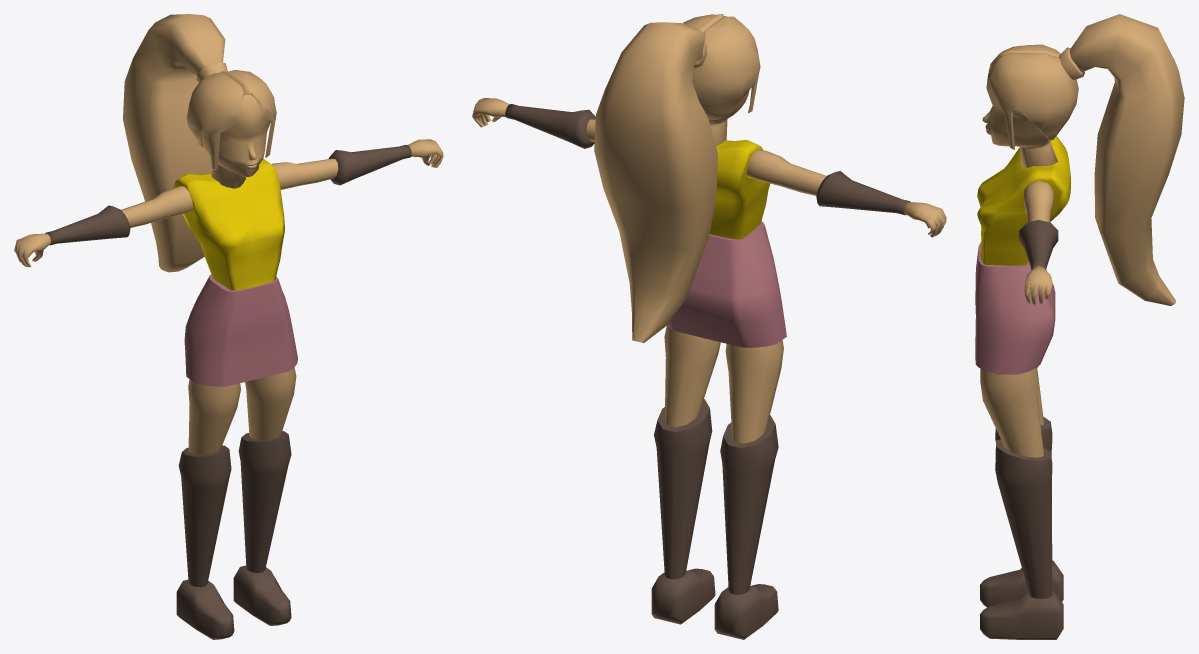
Rendered from character.fbx.
3 views of the same model, side by side, from view 1: azimuth 30°, elevation 25°; view 2: azimuth 150°, elevation 25°; view 3: azimuth 270°, elevation 25° (orthographic). The views are drawn at different scales.
Parts seen in each view (by area): view 1: char_head, pCylinder8, char_chest, pCylinder14, pCylinder13, pCylinder11, pCylinder10, pCylinder16, pCylinder17, pCylinder5, pCylinder4, pCylinder3 (+3 smaller); view 2: char_head, pCylinder8, pCylinder14, pCylinder13, pCylinder11, char_chest, pCylinder10, pCylinder17, pCylinder16, pCylinder5, pCylinder4, pCylinder3 (+2 smaller); view 3: char_head, pCylinder8, pCylinder14, char_chest, pCylinder10, pCylinder16, pCylinder17, pCylinder4, char_left_arm, pCylinder6, pCylinder13.
Part boxes in pixels (x1=…): char_head: x1=123, y1=14, x2=276, y2=272; pCylinder8: x1=184, y1=274, x2=297, y2=386; char_chest: x1=173, y1=158, x2=284, y2=290; pCylinder14: x1=238, y1=431, x2=291, y2=572; pCylinder13: x1=178, y1=445, x2=231, y2=587; pCylinder11: x1=188, y1=379, x2=240, y2=454; pCylinder10: x1=245, y1=367, x2=296, y2=439; pCylinder16: x1=233, y1=565, x2=291, y2=625; pCylinder17: x1=176, y1=579, x2=234, y2=639; pCylinder5: x1=45, y1=205, x2=130, y2=245; pCylinder4: x1=328, y1=145, x2=411, y2=185; pCylinder3: x1=121, y1=186, x2=193, y2=227; char_head: x1=594, y1=14, x2=760, y2=342; pCylinder8: x1=667, y1=221, x2=786, y2=347; pCylinder14: x1=654, y1=399, x2=712, y2=579; pCylinder13: x1=720, y1=415, x2=778, y2=594; pCylinder11: x1=725, y1=340, x2=783, y2=443; char_chest: x1=710, y1=140, x2=769, y2=239; pCylinder10: x1=664, y1=326, x2=720, y2=427; pCylinder17: x1=714, y1=584, x2=778, y2=639; pCylinder16: x1=651, y1=568, x2=715, y2=624; pCylinder5: x1=816, y1=171, x2=910, y2=215; pCylinder4: x1=505, y1=104, x2=595, y2=148; pCylinder3: x1=746, y1=149, x2=826, y2=195; char_head: x1=982, y1=14, x2=1184, y2=305; pCylinder8: x1=975, y1=242, x2=1055, y2=374; pCylinder14: x1=995, y1=439, x2=1052, y2=598; char_chest: x1=977, y1=136, x2=1070, y2=265; pCylinder10: x1=980, y1=368, x2=1043, y2=457; pCylinder16: x1=980, y1=590, x2=1063, y2=639; pCylinder17: x1=980, y1=560, x2=1063, y2=607; pCylinder4: x1=1019, y1=220, x2=1058, y2=269; char_left_arm: x1=1024, y1=180, x2=1053, y2=222; pCylinder6: x1=1024, y1=265, x2=1052, y2=304; pCylinder13: x1=995, y1=417, x2=1052, y2=566.
Size of the model in its own units: 1.32 by 1.7 by 0.5359.
